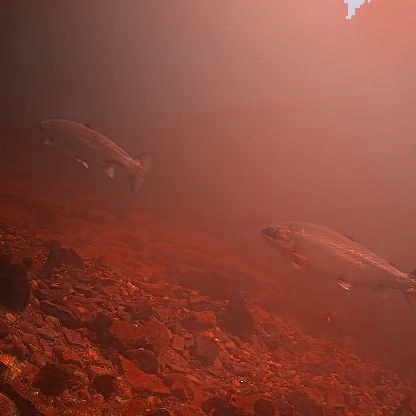salmon: (257, 216, 416, 313), (35, 113, 154, 197)
